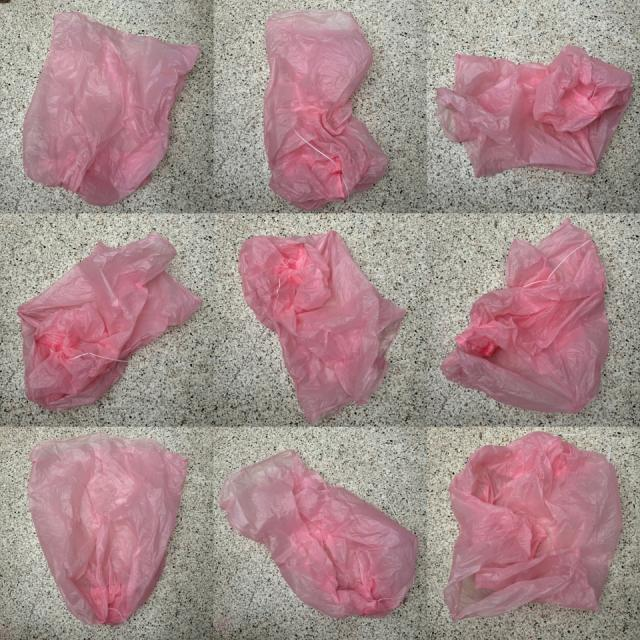Single-layer Plastic: (22, 12, 199, 206), (444, 431, 622, 619), (220, 450, 419, 618), (220, 450, 418, 618), (18, 232, 202, 409), (441, 219, 609, 412), (239, 231, 406, 423), (29, 432, 188, 625), (436, 46, 631, 177), (264, 10, 388, 210)
